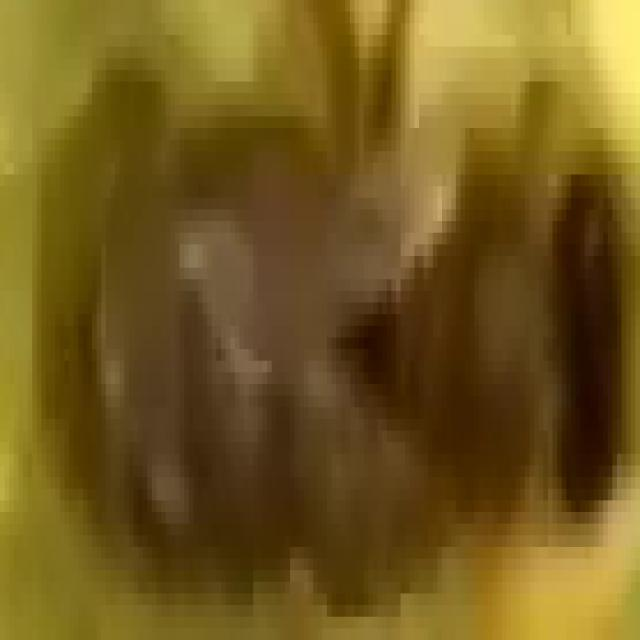honeybee: (23, 35, 640, 628)
